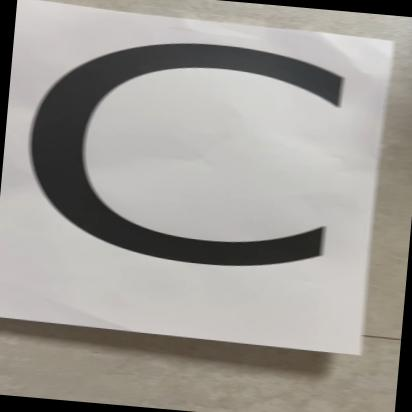seat: (0, 3, 404, 355)
